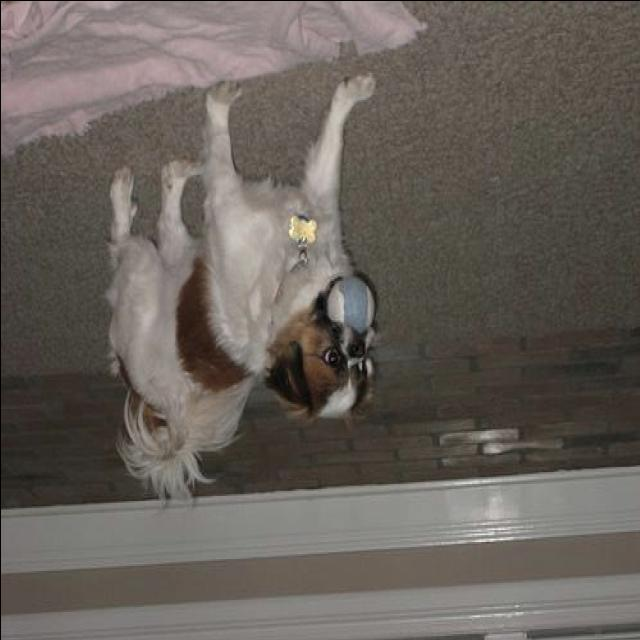pekinese: (101, 73, 378, 510)
